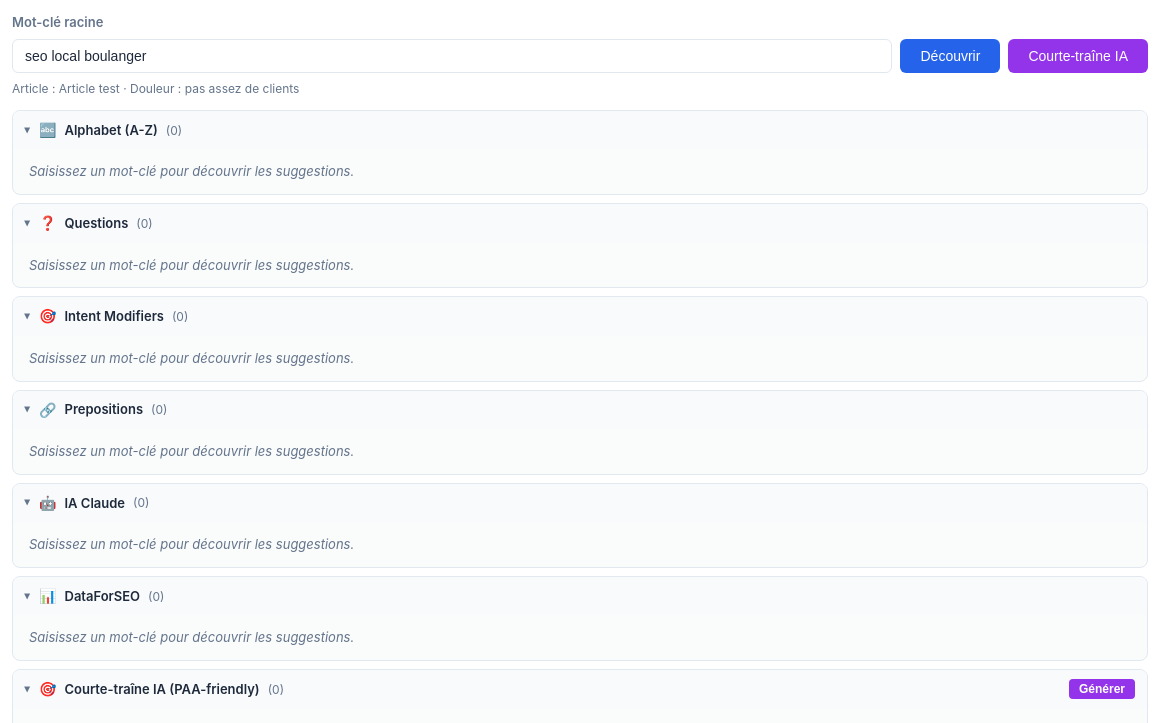
Test: DiscoveryPanel — états vides + erreur › placeholder section : "Aucun résultat" si lancé mais source vide
What coordinates should you click on to do the following:
click the button with class "discovery-input__btn" showing "Découvrir"
I would click on:
 (950, 56)
Its box is [900,39,1000,73].
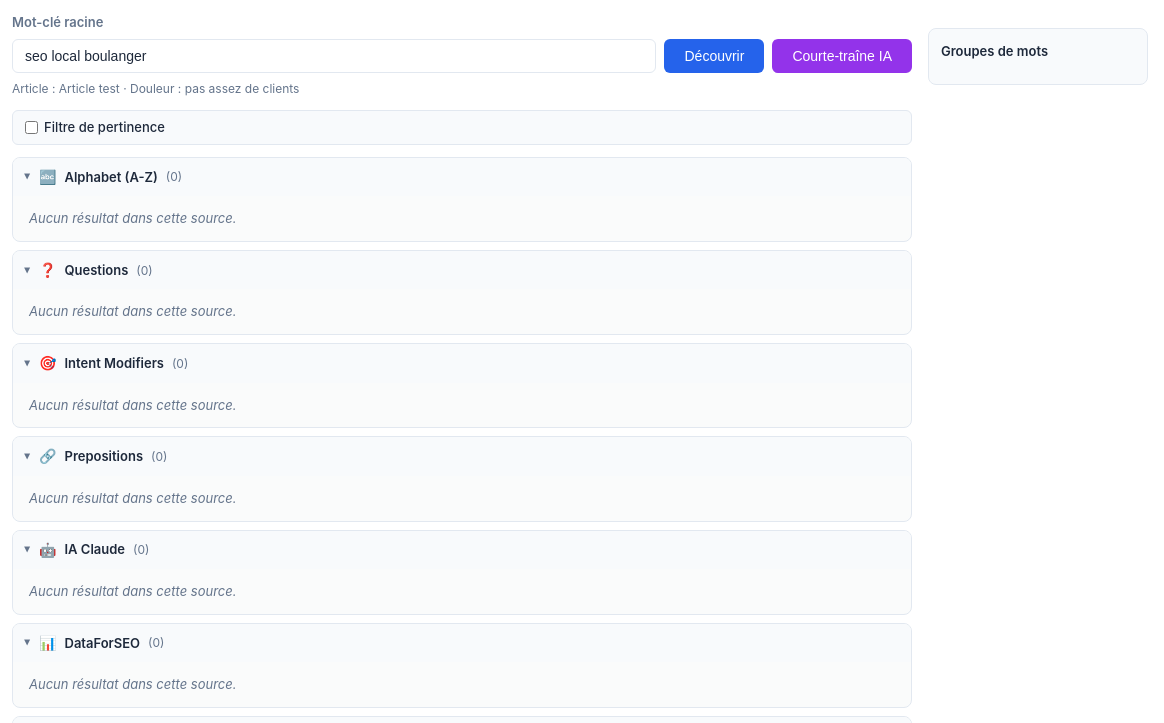
Result: the text "Aucun résultat dans cette source" is shown at [29,210,236,226]
